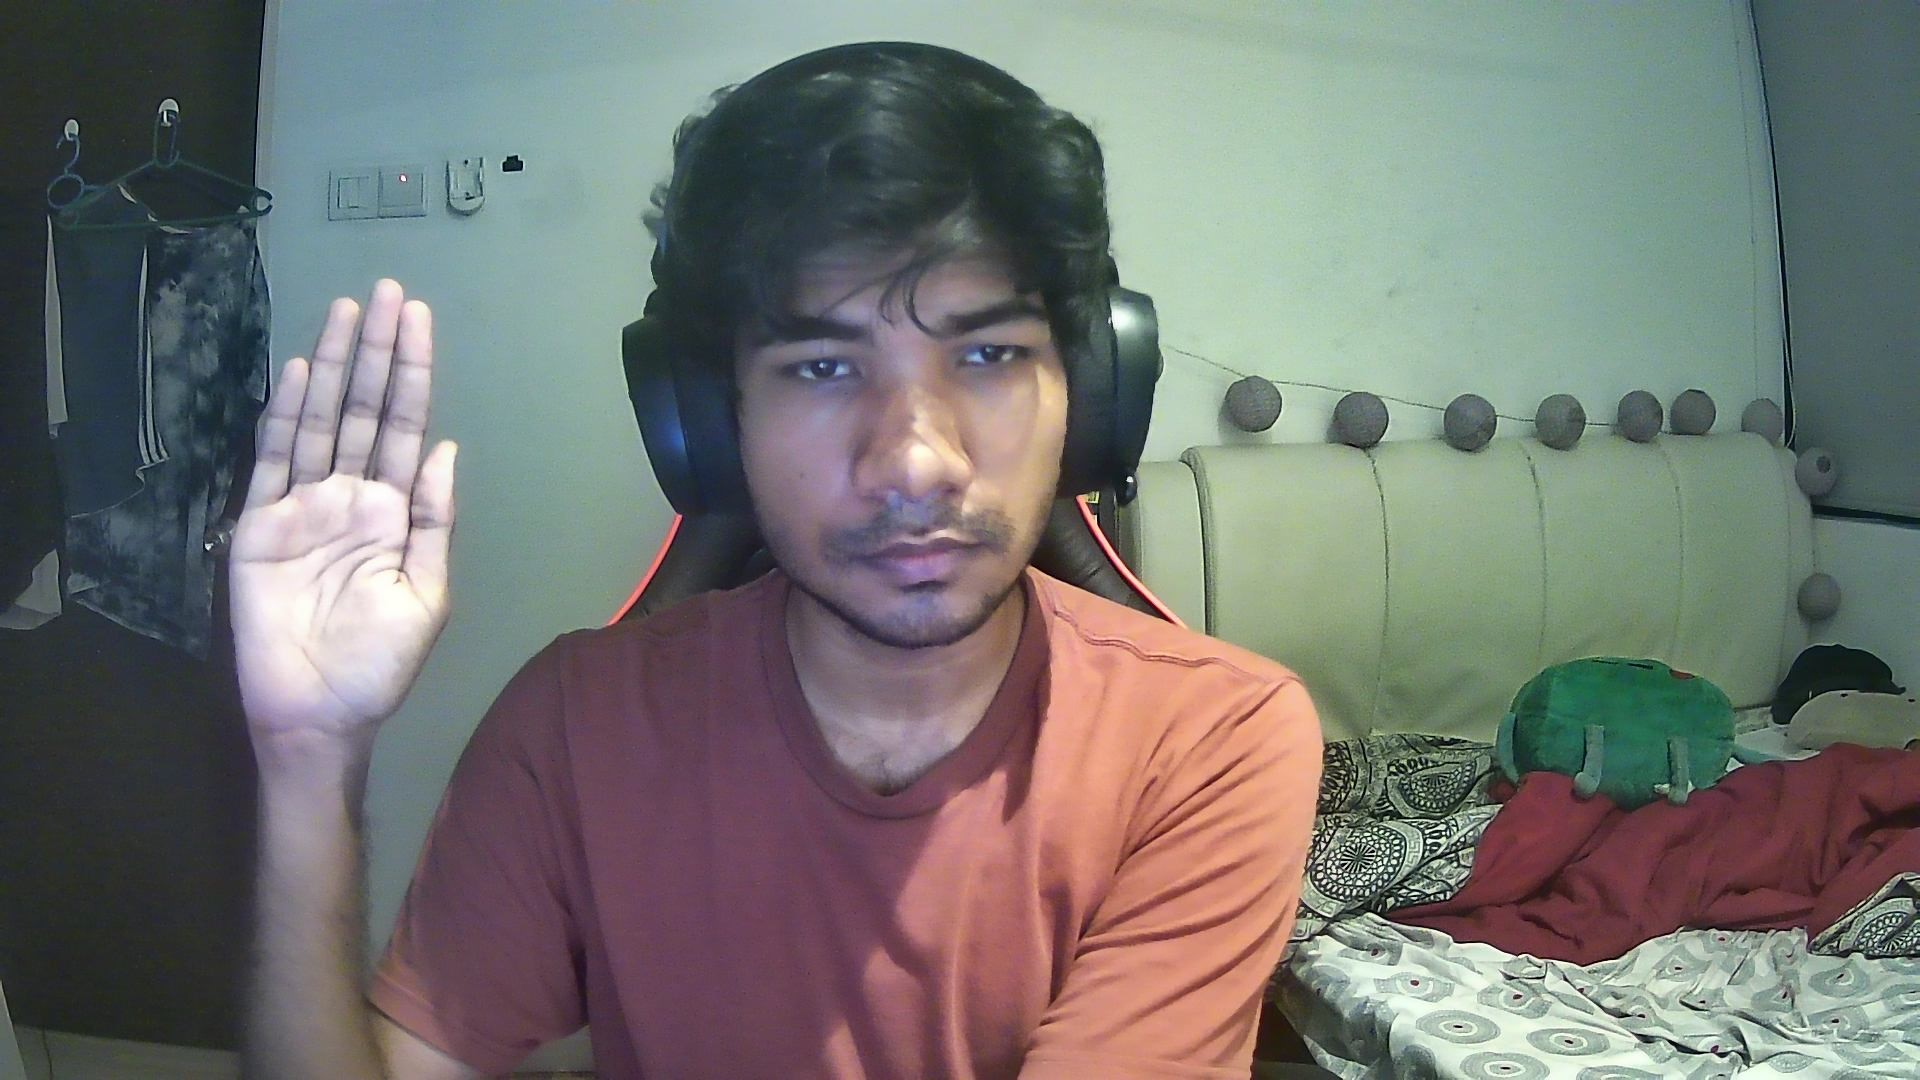Hello: (218, 276, 468, 736)
